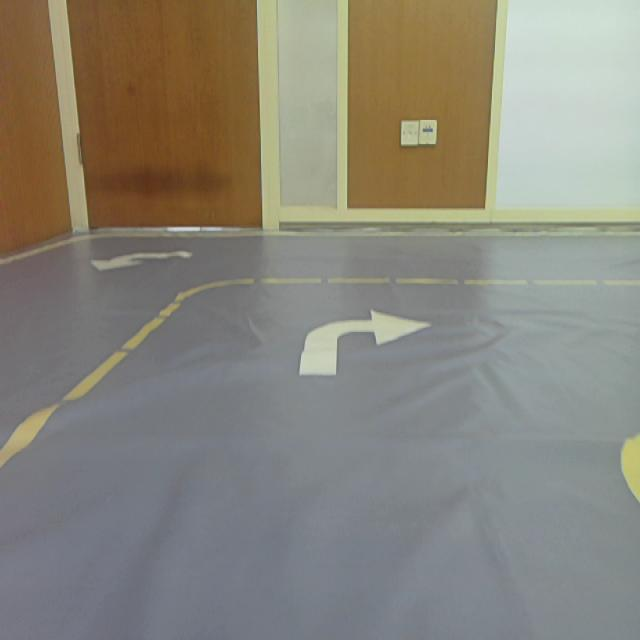left_lane: (0, 292, 185, 478)
right_lane: (621, 445, 640, 501)
